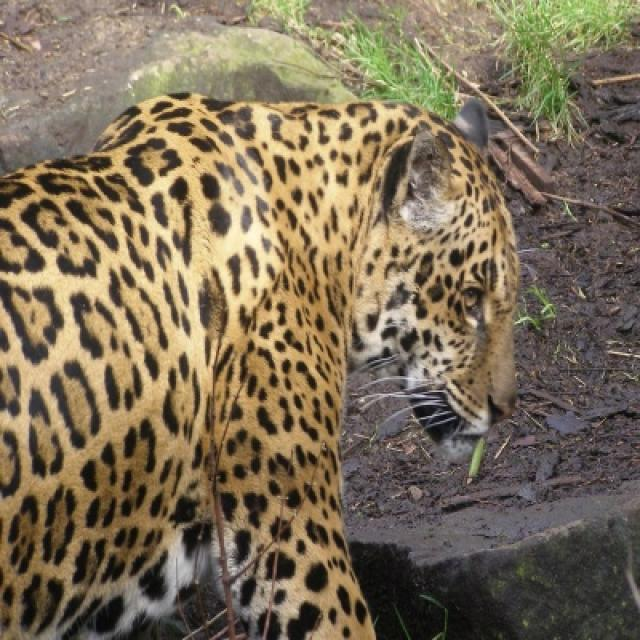Jaguar: (0, 93, 522, 638)
